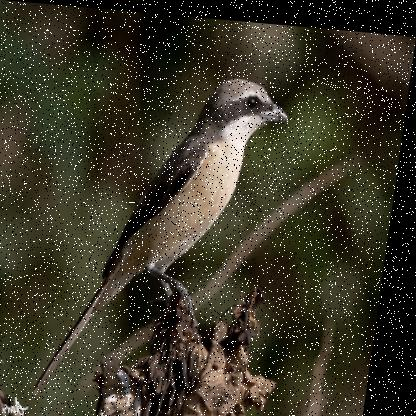Burung: (44, 61, 298, 408)
